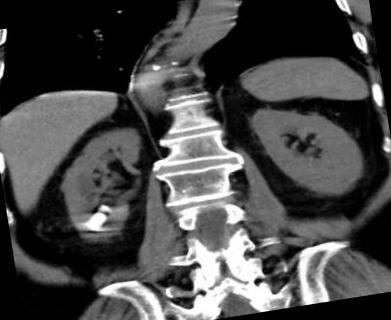Tas_Var: (79, 210, 111, 233), (90, 198, 117, 216)
